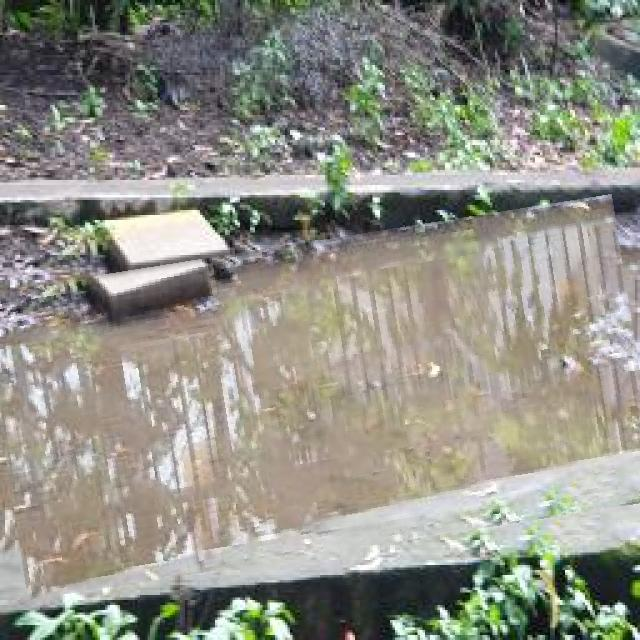puddle: (1, 219, 640, 577)
